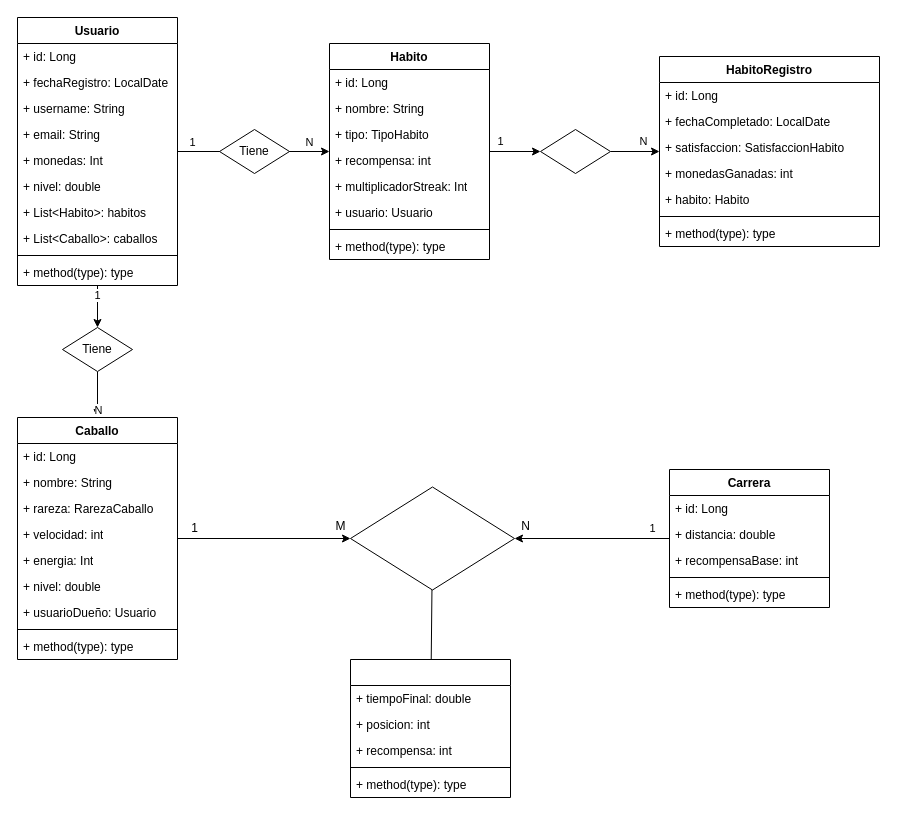
This 897x818 diagram has some shape labels left out. The shapes that lost their labels are listed below. From the top down, each one's centre as x and y in pixels, then its label:
At pixel 575 151: "Tiene historial".
At pixel 432 538: "ParticipacionCarrera".
